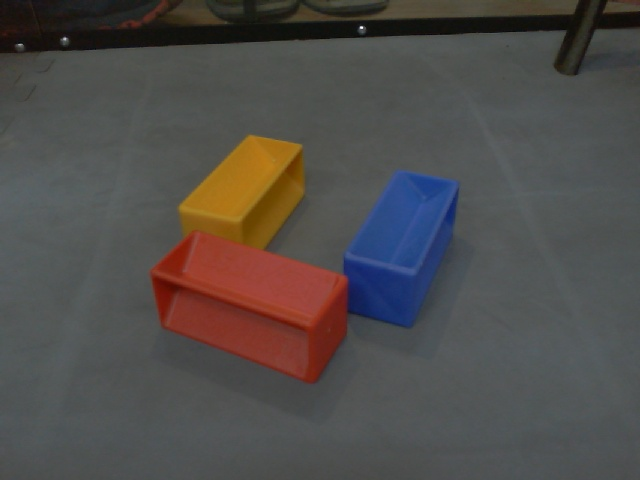BlueSample: (341, 169, 460, 328)
RedSample: (147, 228, 349, 387)
YellowSample: (174, 129, 310, 251)
